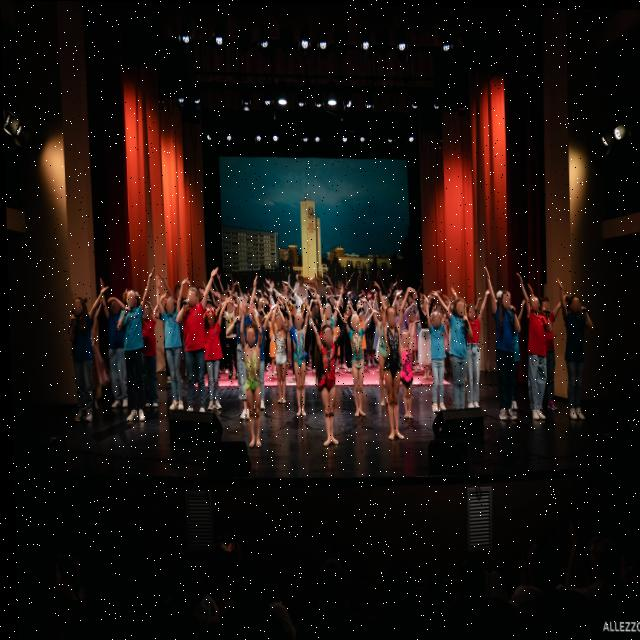Person: (484, 282, 521, 427), (60, 283, 98, 424), (236, 315, 267, 454), (118, 286, 146, 438), (198, 299, 230, 421), (175, 282, 205, 410), (566, 284, 594, 421), (312, 319, 340, 449), (440, 288, 468, 415), (156, 286, 182, 421), (520, 291, 546, 424), (379, 300, 402, 447), (461, 296, 489, 416), (233, 285, 256, 423), (421, 305, 448, 418), (101, 288, 125, 410), (286, 300, 310, 420), (538, 293, 561, 410), (342, 308, 365, 422), (394, 323, 415, 428), (139, 296, 157, 411), (269, 309, 287, 410), (415, 293, 430, 381), (222, 296, 237, 382), (286, 301, 303, 373), (306, 301, 320, 371), (404, 308, 419, 368), (266, 306, 277, 378), (319, 301, 334, 328), (433, 298, 444, 322), (391, 298, 404, 316), (398, 294, 409, 312), (342, 305, 352, 322), (364, 275, 375, 290), (172, 284, 181, 302), (252, 299, 263, 313), (420, 297, 428, 316), (349, 284, 358, 300), (326, 294, 336, 308), (225, 298, 234, 312), (297, 284, 304, 301), (204, 295, 210, 313), (335, 279, 341, 297), (318, 284, 325, 298), (214, 296, 221, 309), (254, 302, 262, 313), (218, 289, 224, 303), (277, 295, 284, 306)
